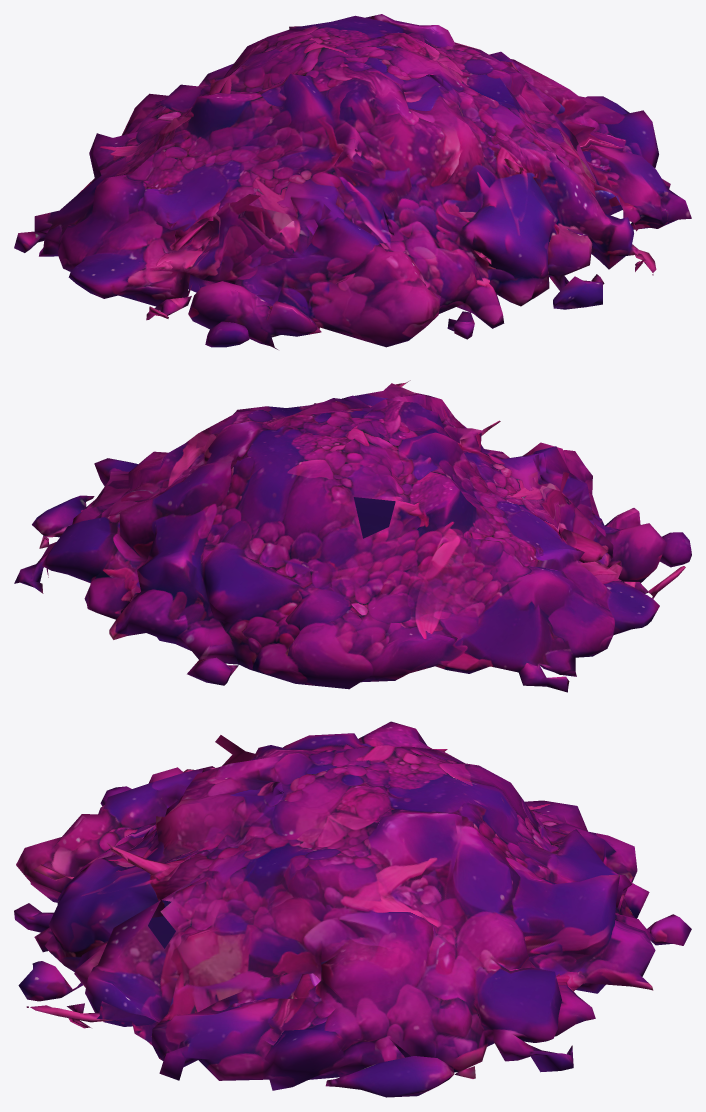
Rendered from escama_moida.fbx.
3 renders of one model, top to bottom at view 1: azimuth 30°, elevation 25°; view 2: azimuth 150°, elevation 25°; view 3: azimuth 270°, elevation 25°, orthographic. The views are drawn at different scales.
Visible parts, largest first — view 1: tripo_node_a81c2efb; view 2: tripo_node_a81c2efb; view 3: tripo_node_a81c2efb.
Boxes of the visible parts, x1,y1,x2,y2 form: tripo_node_a81c2efb: (14,14,691,349); tripo_node_a81c2efb: (14,380,691,692); tripo_node_a81c2efb: (14,721,691,1097).
Size of the model in its own units: 53.06 by 14.97 by 47.5.
